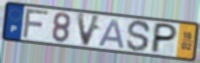8: (51, 11, 73, 43)
A: (97, 18, 126, 50)
F: (21, 8, 51, 40)
P: (148, 22, 179, 55)
S: (125, 19, 152, 53)
V: (75, 11, 103, 48)
